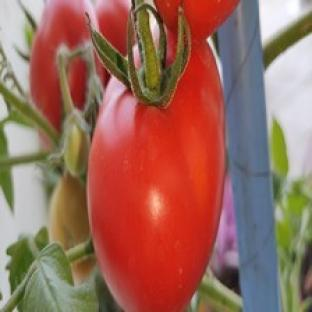Tomato: (88, 42, 225, 311), (49, 173, 90, 249)
